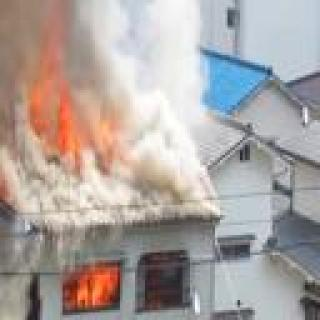fire: (18, 58, 124, 164), (0, 172, 46, 320), (60, 264, 129, 320)
